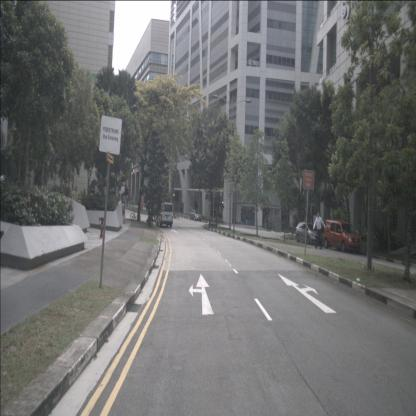human-pedestrian-adult: (312, 210, 327, 250)
vehicle-bicycle: (130, 209, 141, 222)
vehicle-car: (323, 219, 362, 254), (295, 221, 322, 246), (157, 201, 173, 228), (190, 209, 201, 222)
